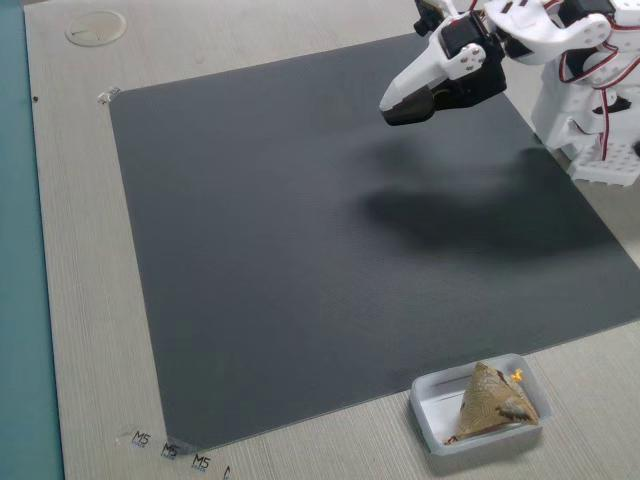gripper: (374, 39, 513, 127)
